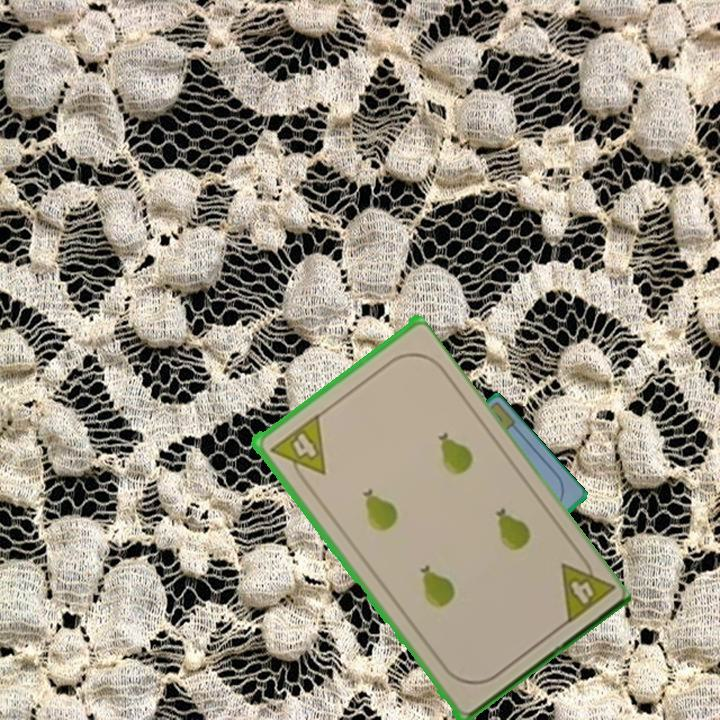4p: (265, 411, 329, 488), (556, 547, 616, 628)
